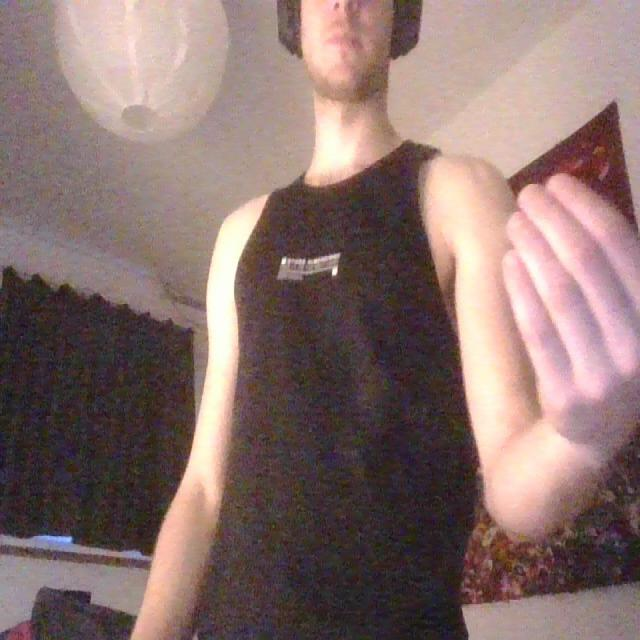forward: (496, 156, 640, 454)
